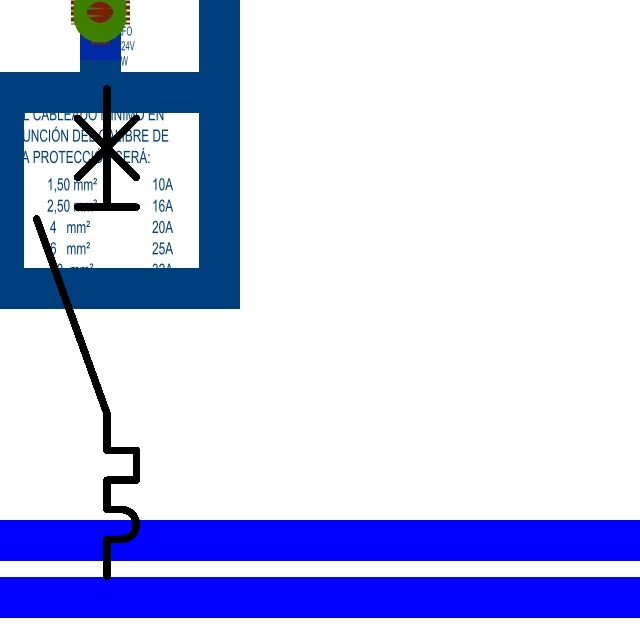interruptor_termomagnetico: (24, 76, 149, 589)
